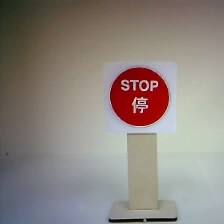stop: (96, 58, 183, 135)
